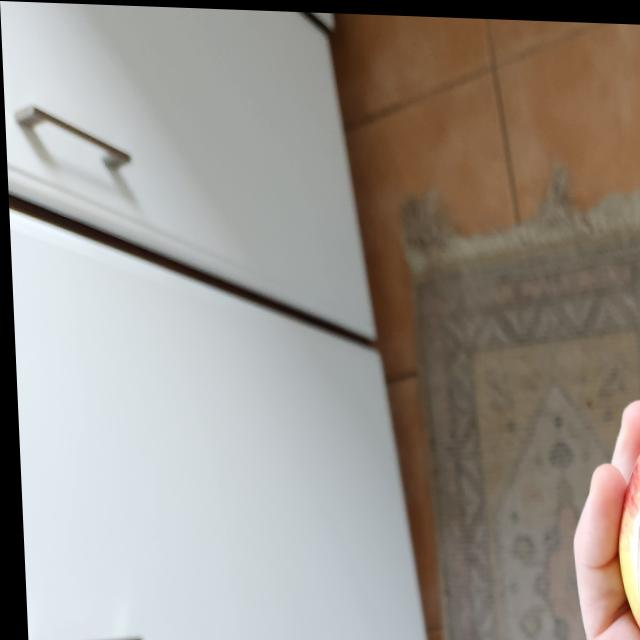apple: (611, 386, 640, 640)
